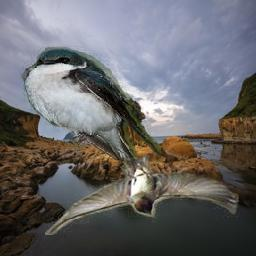Swallow: (21, 44, 162, 169), (45, 153, 239, 236)
